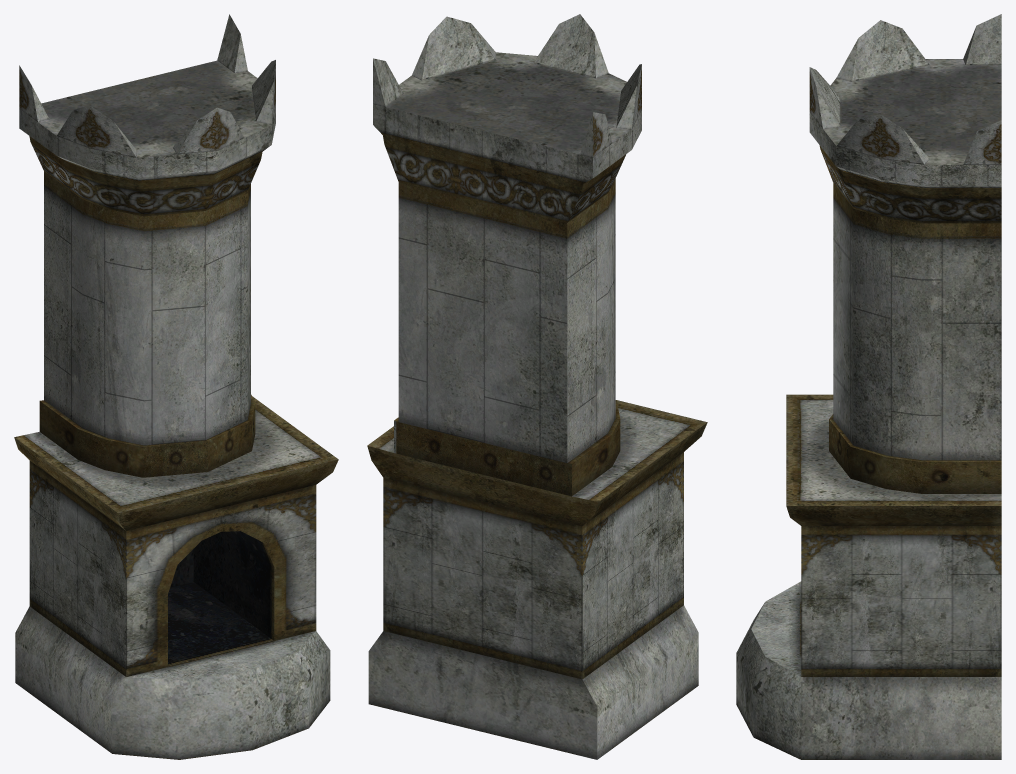
The model's file is stove_corner.dae.
3 views of the same model, side by side, from view 1: azimuth 30°, elevation 25°; view 2: azimuth 150°, elevation 25°; view 3: azimuth 270°, elevation 25° (orthographic). The views are drawn at different scales.
Parts seen in each view (by area): view 1: stove_corner_mesh; view 2: stove_corner_mesh; view 3: stove_corner_mesh.
Part boxes in pixels (box(x1,y1,x2,y2)): stove_corner_mesh: box(14, 14, 338, 759); stove_corner_mesh: box(367, 14, 707, 759); stove_corner_mesh: box(736, 14, 1001, 759).
Size of the model in its own units: 1.32 by 3.51 by 1.32.
